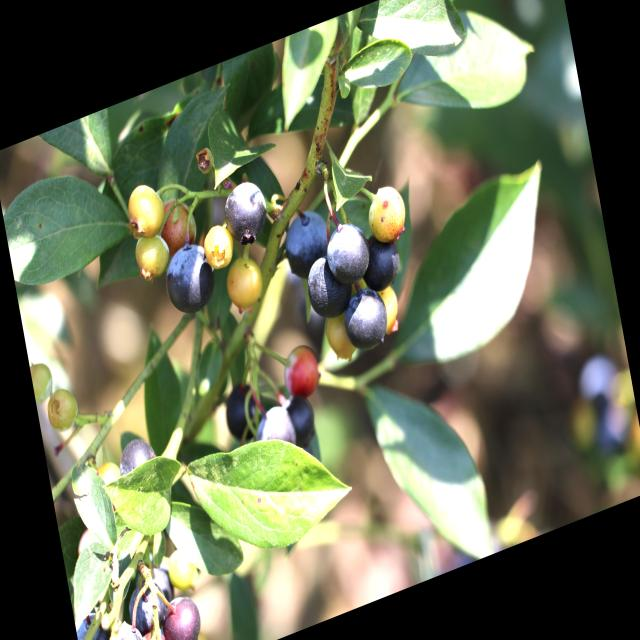blueberry: (294, 240, 357, 326), (157, 236, 218, 320), (281, 200, 333, 279), (218, 173, 270, 251), (338, 281, 391, 357), (322, 213, 373, 289), (357, 228, 405, 296), (252, 400, 296, 468), (127, 573, 170, 640), (219, 382, 258, 451), (283, 384, 322, 451), (159, 585, 205, 640), (114, 429, 157, 486), (73, 602, 113, 640), (108, 615, 146, 640)
blueberry-halfripe: (362, 175, 412, 246), (156, 192, 200, 257), (279, 341, 322, 404), (137, 627, 170, 640)
blueberry-unripe: (120, 177, 168, 246), (222, 250, 266, 314), (322, 302, 362, 371), (44, 384, 82, 436), (201, 219, 236, 275), (132, 232, 168, 284), (374, 277, 404, 339), (28, 351, 58, 408)
